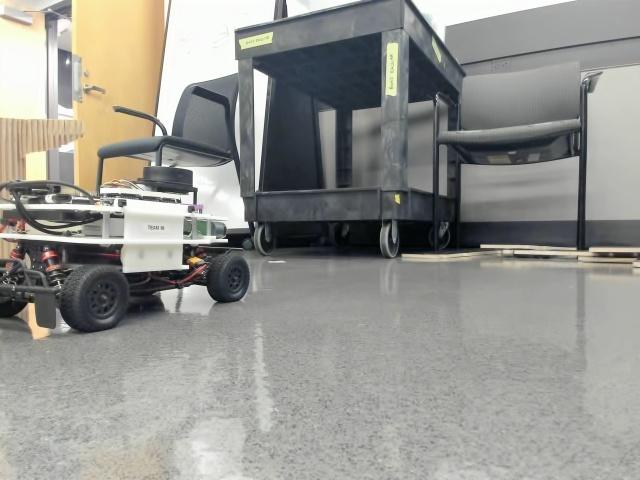Car: (0, 165, 251, 332)
